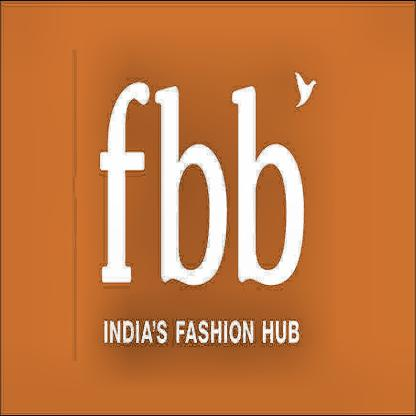Fbb: (100, 69, 323, 288)
